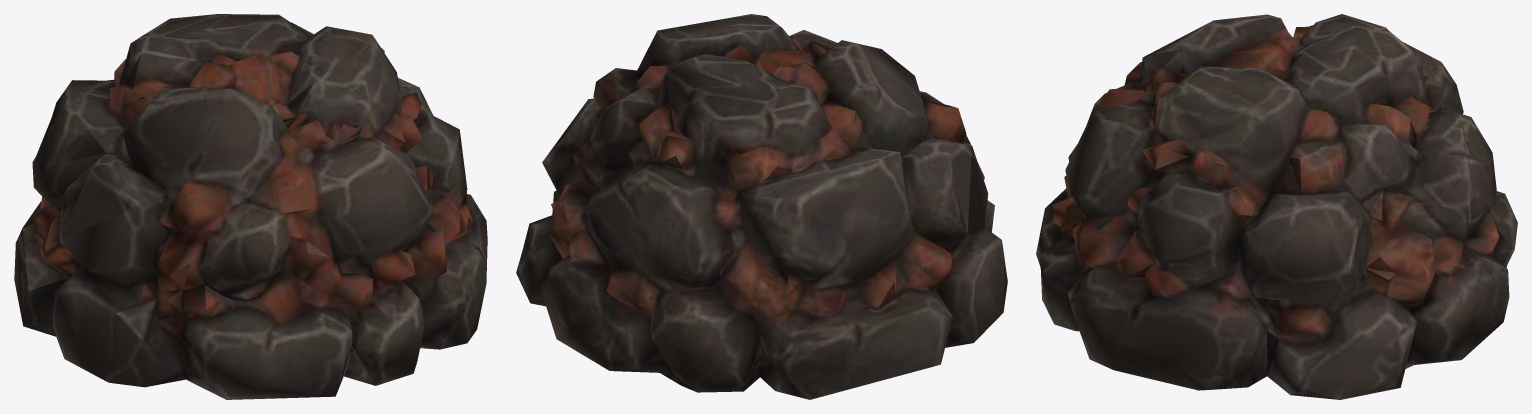
Rendered from filon_fer2.glb.
The picture shows the model from 3 angles, left to right: view 1: azimuth 30°, elevation 25°; view 2: azimuth 150°, elevation 25°; view 3: azimuth 270°, elevation 25°; orthographic projection.
Visible parts, largest first — view 1: Mesh_0.001; view 2: Mesh_0.001; view 3: Mesh_0.001.
Part boxes in pixels (box(x1,y1,x2,y2)): Mesh_0.001: box(14, 14, 487, 399); Mesh_0.001: box(516, 14, 1007, 399); Mesh_0.001: box(1036, 14, 1517, 399).
Bounding box in the file's own units: 1.89 × 1.11 × 1.9.
Materials: 1 (1 with a texture image).
